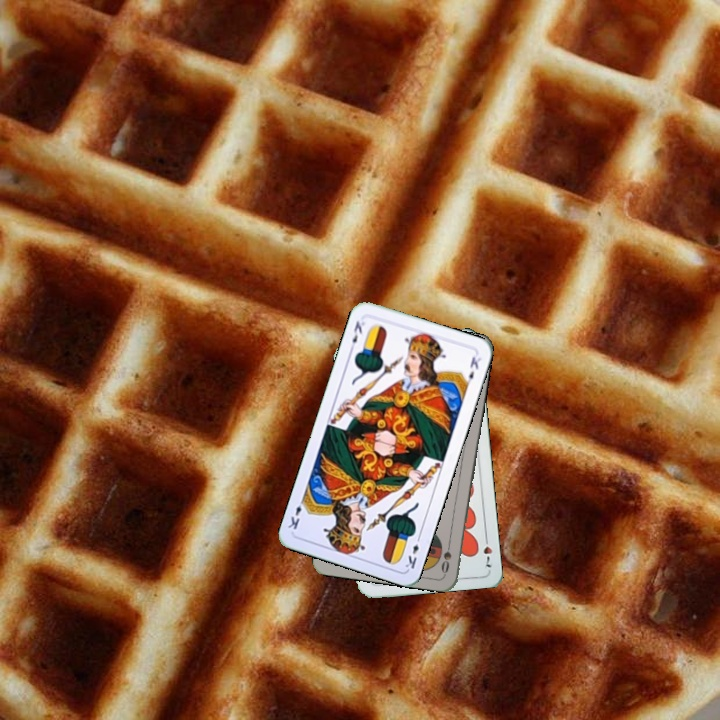EK: (401, 531, 423, 571), (346, 317, 367, 354)
H7: (479, 531, 495, 570)
SO: (437, 535, 454, 576)
